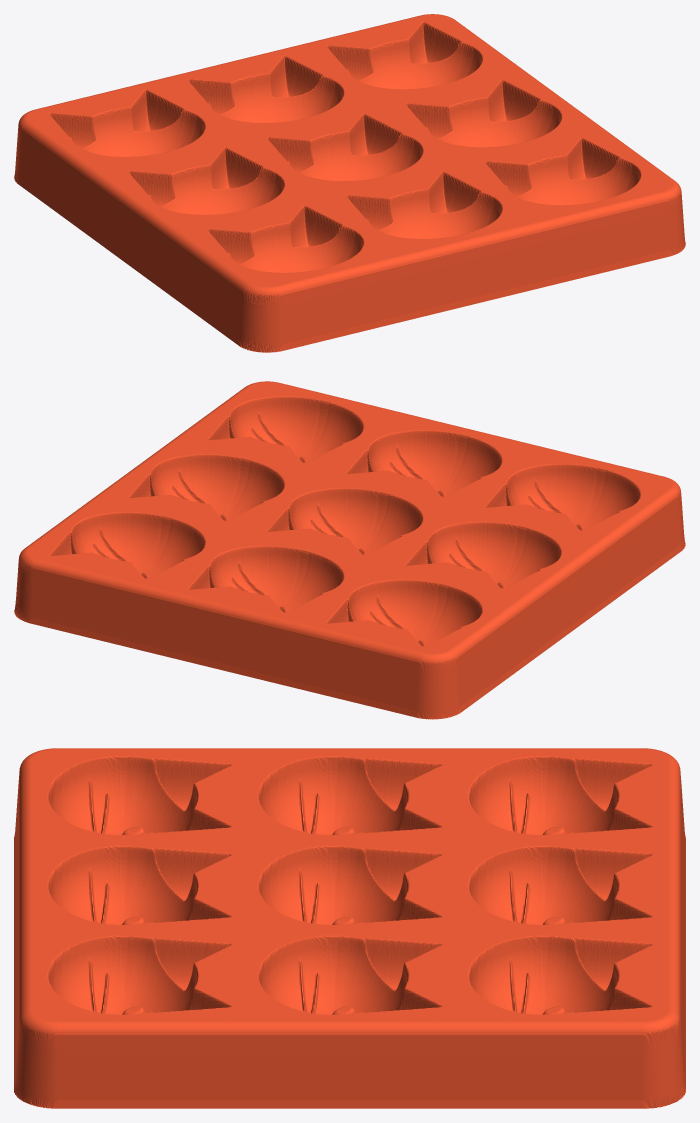
File: mold.glb
3 renders of one model, top to bottom at view 1: azimuth 30°, elevation 25°; view 2: azimuth 150°, elevation 25°; view 3: azimuth 270°, elevation 25°, orthographic. The views are drawn at different scales.
Visible parts, largest first — view 1: geometry_0; view 2: geometry_0; view 3: geometry_0.
Part boxes in pixels (x1,y1,x2,y2): geometry_0: (14, 14, 685, 352); geometry_0: (14, 381, 685, 719); geometry_0: (14, 748, 685, 1108).
Size of the model in its own units: 0.1402 by 0.0182 by 0.1387.
